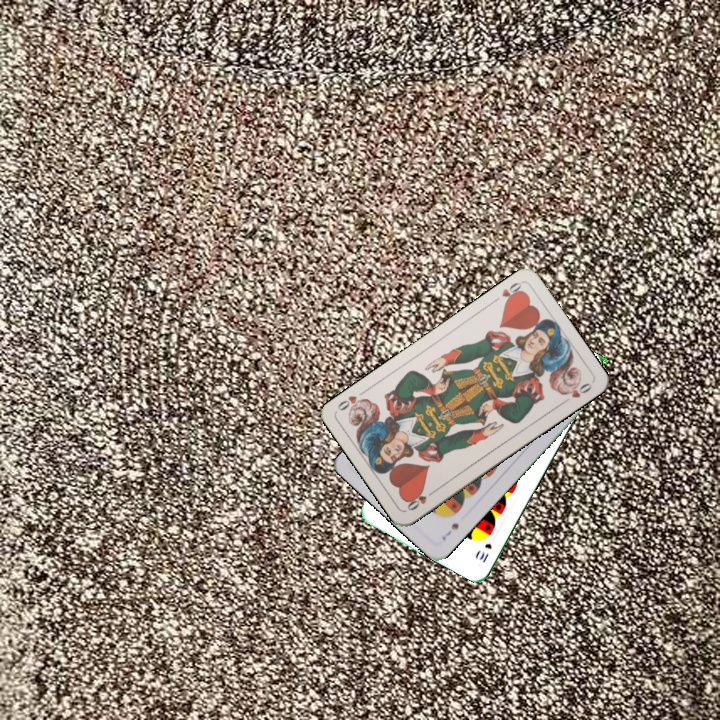HO: (488, 278, 526, 307), (403, 485, 438, 513)
S10: (475, 539, 494, 565)
S7: (438, 519, 461, 543)
